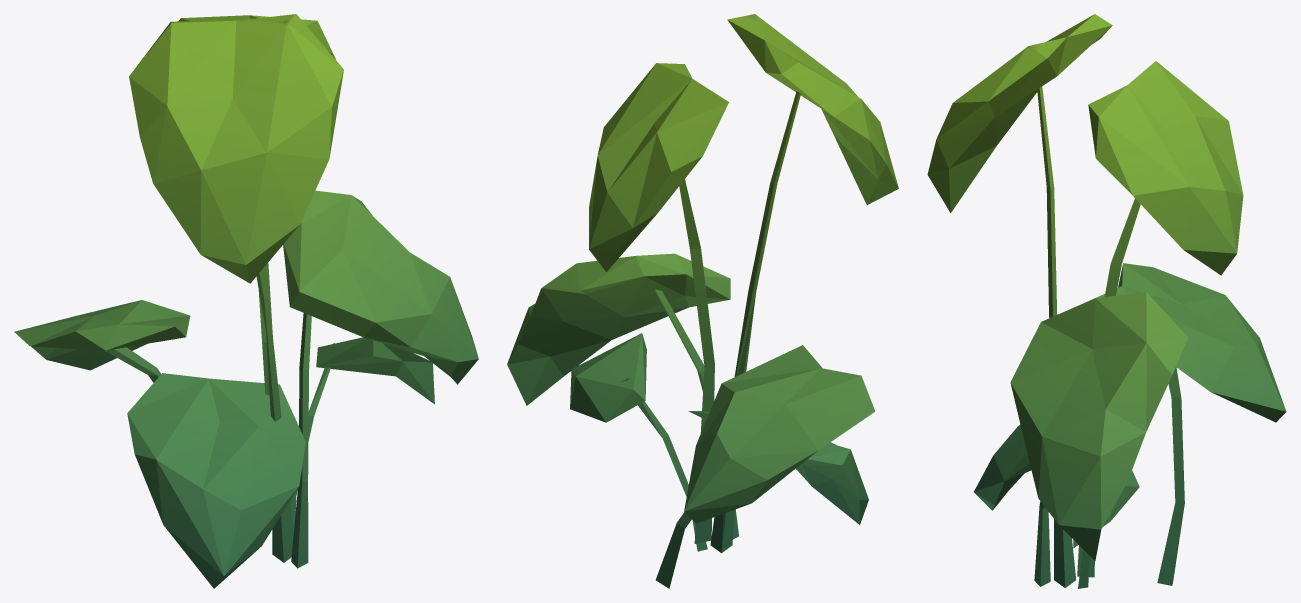
File: ZLP_Grass_D_2.FBX
3 renders of one model, left to right at view 1: azimuth 30°, elevation 25°; view 2: azimuth 150°, elevation 25°; view 3: azimuth 270°, elevation 25°, orthographic. The views are drawn at different scales.
Parts seen in each view (by area): view 1: ZLP_Grass_D_2; view 2: ZLP_Grass_D_2; view 3: ZLP_Grass_D_2.
Part boxes in pixels (bbox=[...]): ZLP_Grass_D_2: bbox=[14, 14, 478, 588]; ZLP_Grass_D_2: bbox=[507, 14, 898, 588]; ZLP_Grass_D_2: bbox=[927, 14, 1286, 588].
Size of the model in its own units: 101 by 129 by 79.09.
